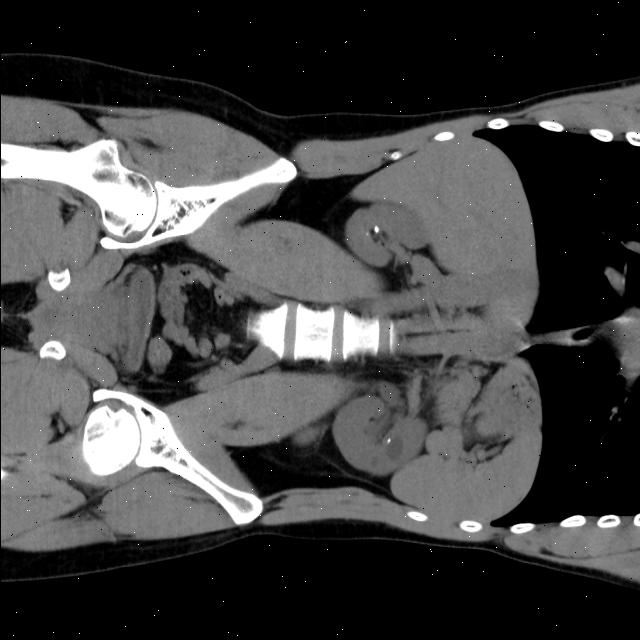kidneystone: (382, 438, 390, 452), (372, 225, 379, 233)
